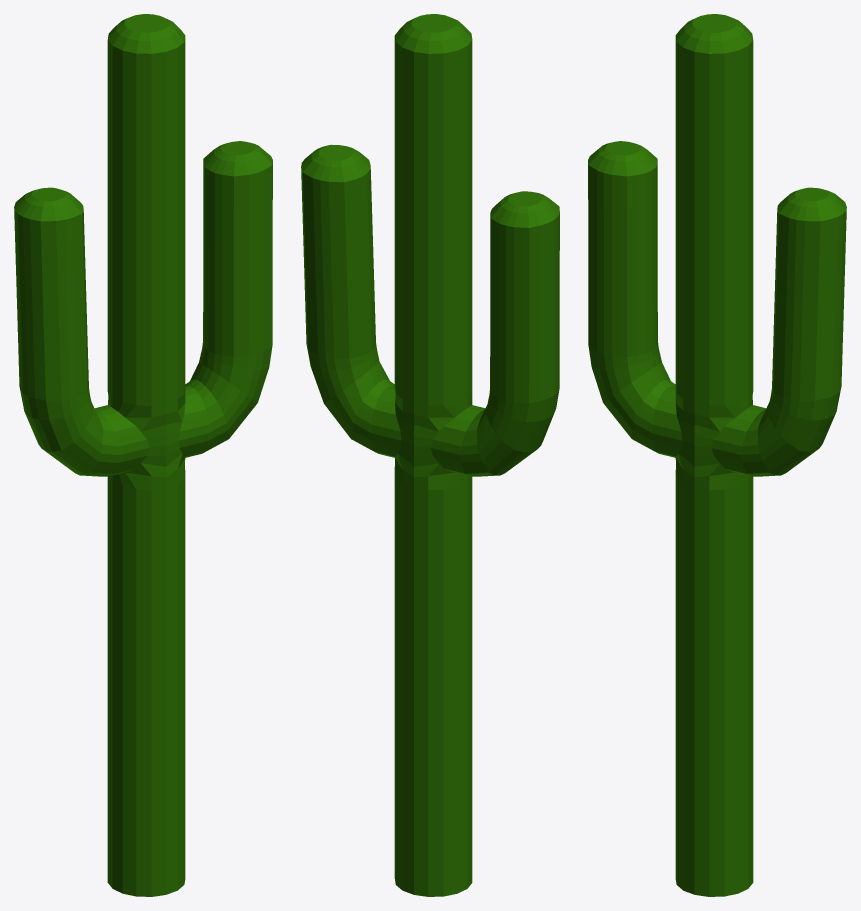
The model's file is Cactus big.glb.
The picture shows the model from 3 angles, left to right: view 1: azimuth 30°, elevation 25°; view 2: azimuth 150°, elevation 25°; view 3: azimuth 330°, elevation 25°; orthographic projection.
Parts seen in each view (by area): view 1: Cylinder.001; view 2: Cylinder.001; view 3: Cylinder.001.
Boxes of the visible parts, x1=… form: Cylinder.001: x1=14, y1=14, x2=272, y2=896; Cylinder.001: x1=301, y1=14, x2=559, y2=896; Cylinder.001: x1=588, y1=14, x2=846, y2=896.
Size of the model in its own units: 0.6526 by 2.14 by 0.1816.
